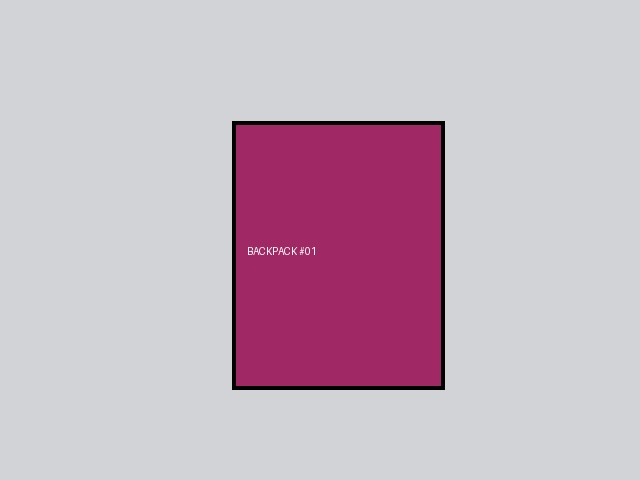backpack: (232, 121, 444, 389)
